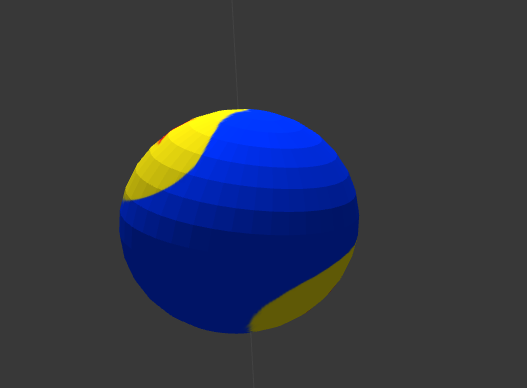toy story ball: (120, 109, 359, 334)
